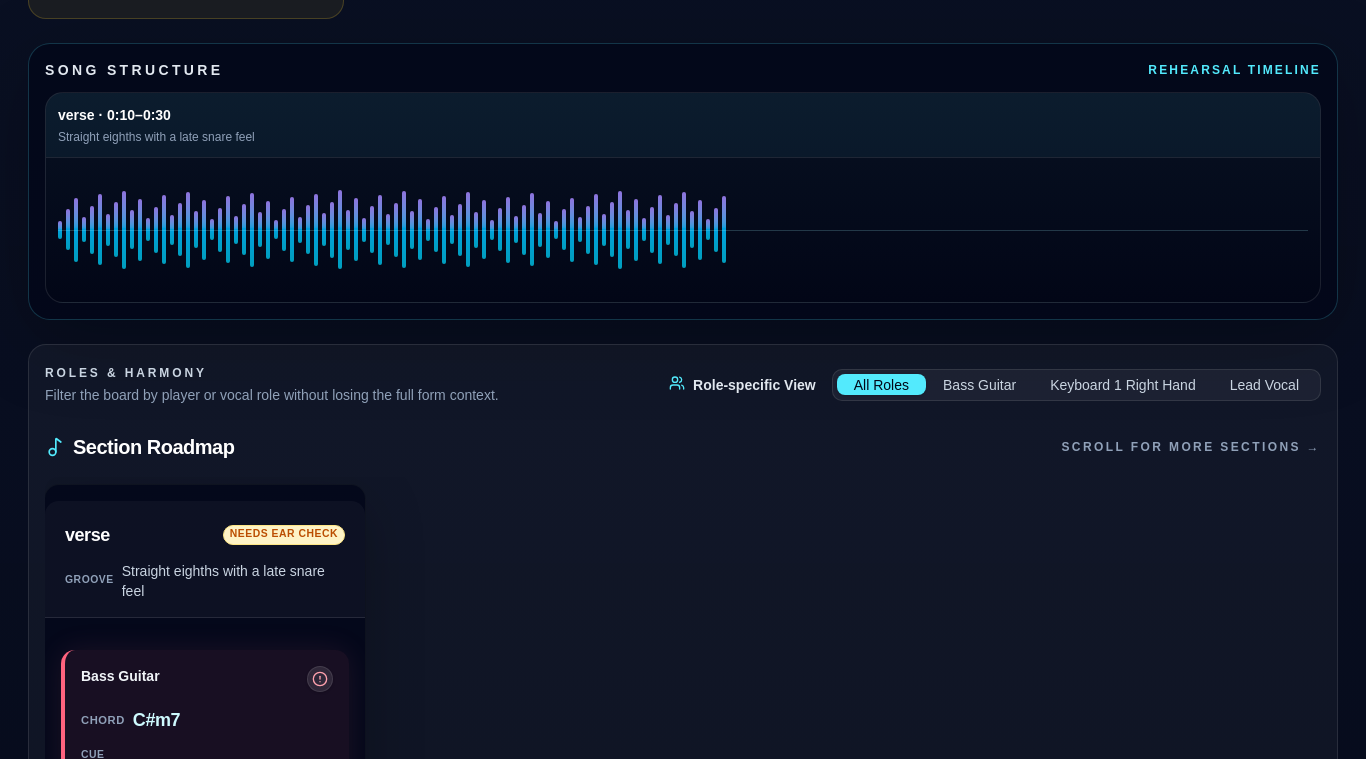
Test case: Workspace › falls back from blank planning copy and tolerates partial collaboration payloads
(page scrolled)
Click the tab "Bass Guitar". click: (980, 385)
box: [926,374,1033,395]
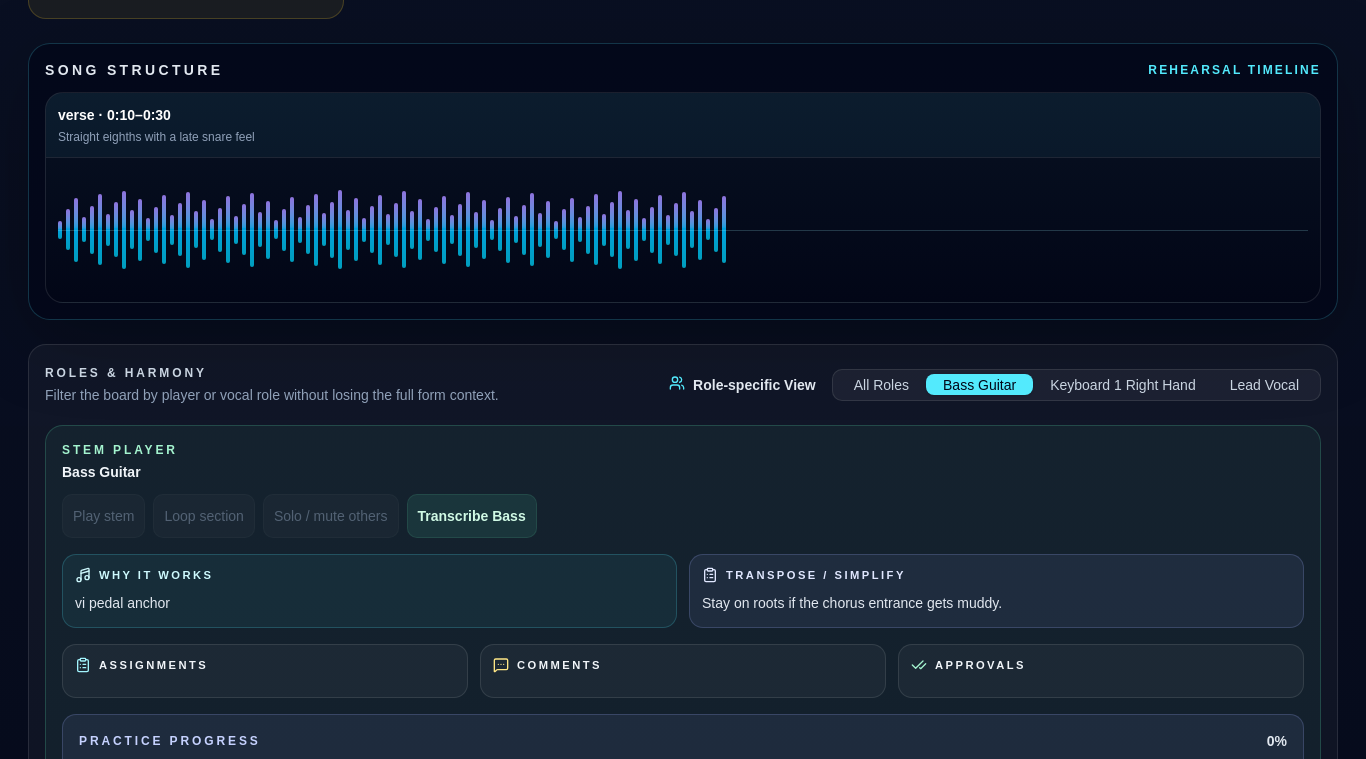
expect the text "vi pedal anchor" is shown: met, box [75,595,170,611]
expect the text "Stay on roots if the chorus entrance gets muddy." is shown: met, box [702,595,1002,611]
